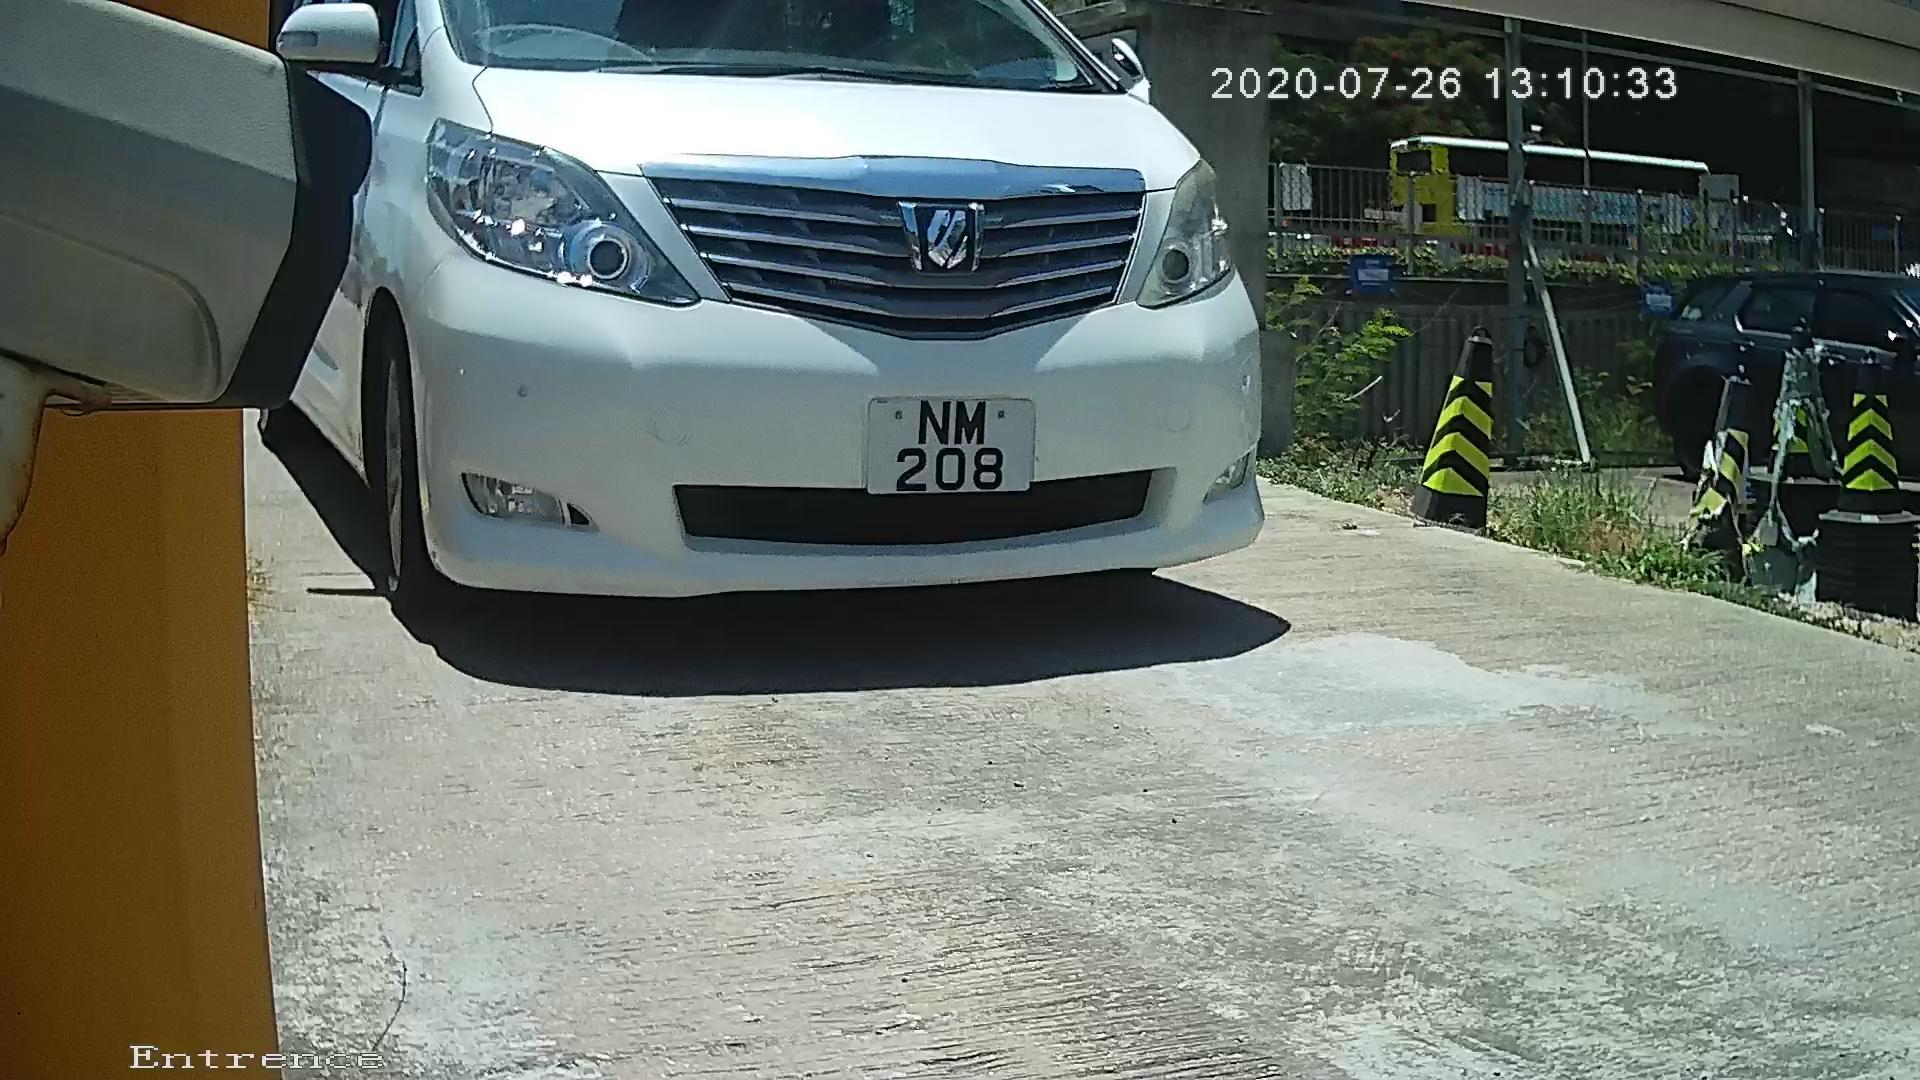privatecar: (258, 11, 1321, 684)
